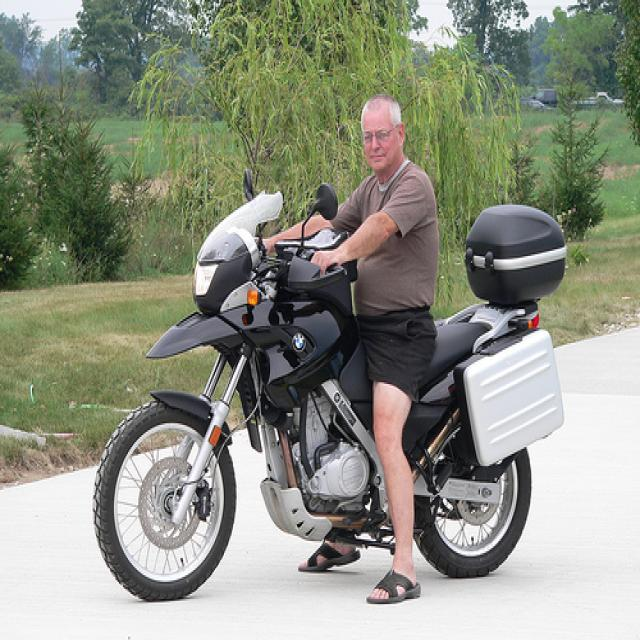light_vehicle: (574, 87, 622, 111), (528, 85, 556, 104), (522, 98, 552, 110)
